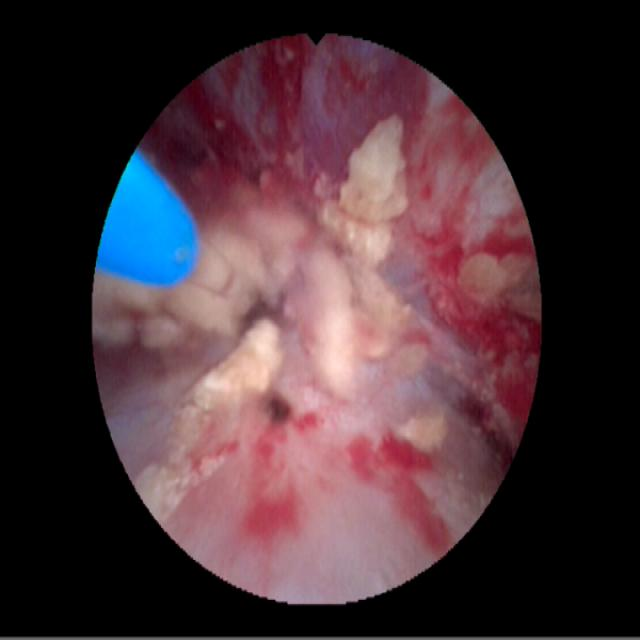fiber: (103, 155, 195, 283)
stone: (99, 119, 405, 395), (183, 321, 284, 411), (462, 252, 529, 306), (403, 417, 445, 452)
